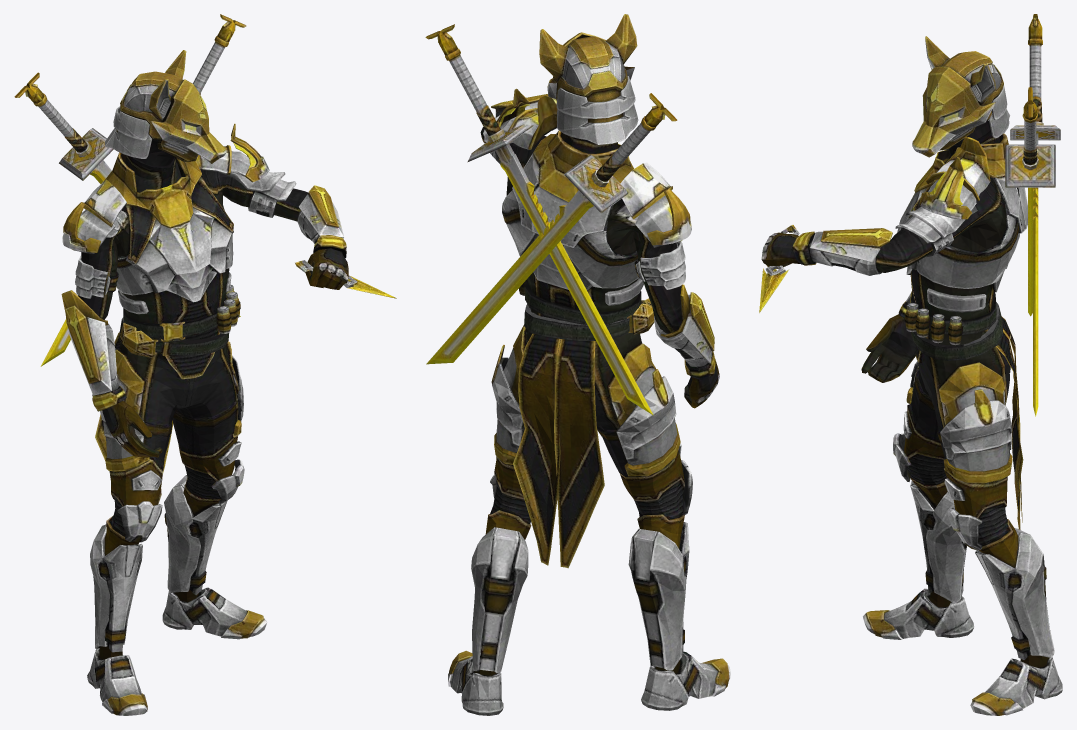
Rendered from ninja.glb.
3 views of the same model, side by side, from view 1: azimuth 30°, elevation 25°; view 2: azimuth 150°, elevation 25°; view 3: azimuth 270°, elevation 25° (orthographic). The views are drawn at different scales.
Parts seen in each view (by area): view 1: Body, Helmet, Ninjato 1, R.Hand, Ninjato 2, L.Hand; view 2: Body, Cloth, Helmet, Ninjato 1, Ninjato 2, R.Hand; view 3: Body, Helmet, Ninjato 2, Ninjato 1, R.Hand, Cloth, L.Hand, Kunai.
Part boxes in pixels (<box>): Body: <box>61,123,346,715</box>; Helmet: <box>105,50,226,166</box>; Ninjato 1: <box>14,72,240,316</box>; R.Hand: <box>102,401,162,457</box>; Ninjato 2: <box>40,14,246,366</box>; L.Hand: <box>305,248,348,289</box>; Body: <box>448,88,730,715</box>; Cloth: <box>513,333,604,568</box>; Helmet: <box>539,14,638,144</box>; Ninjato 1: <box>426,93,677,364</box>; Ninjato 2: <box>425,24,653,415</box>; R.Hand: <box>684,359,719,408</box>; Body: <box>792,120,1062,715</box>; Helmet: <box>912,36,1010,157</box>; Ninjato 2: <box>1005,87,1055,316</box>; Ninjato 1: <box>1010,14,1060,416</box>; R.Hand: <box>861,314,915,382</box>; Cloth: <box>996,316,1023,529</box>; L.Hand: <box>761,232,799,268</box>; Kunai: <box>759,225,799,312</box>.
Bounding box in the file's own units: 82.33 × 193 × 85.07.
Materials: 5 (5 with a texture image).
